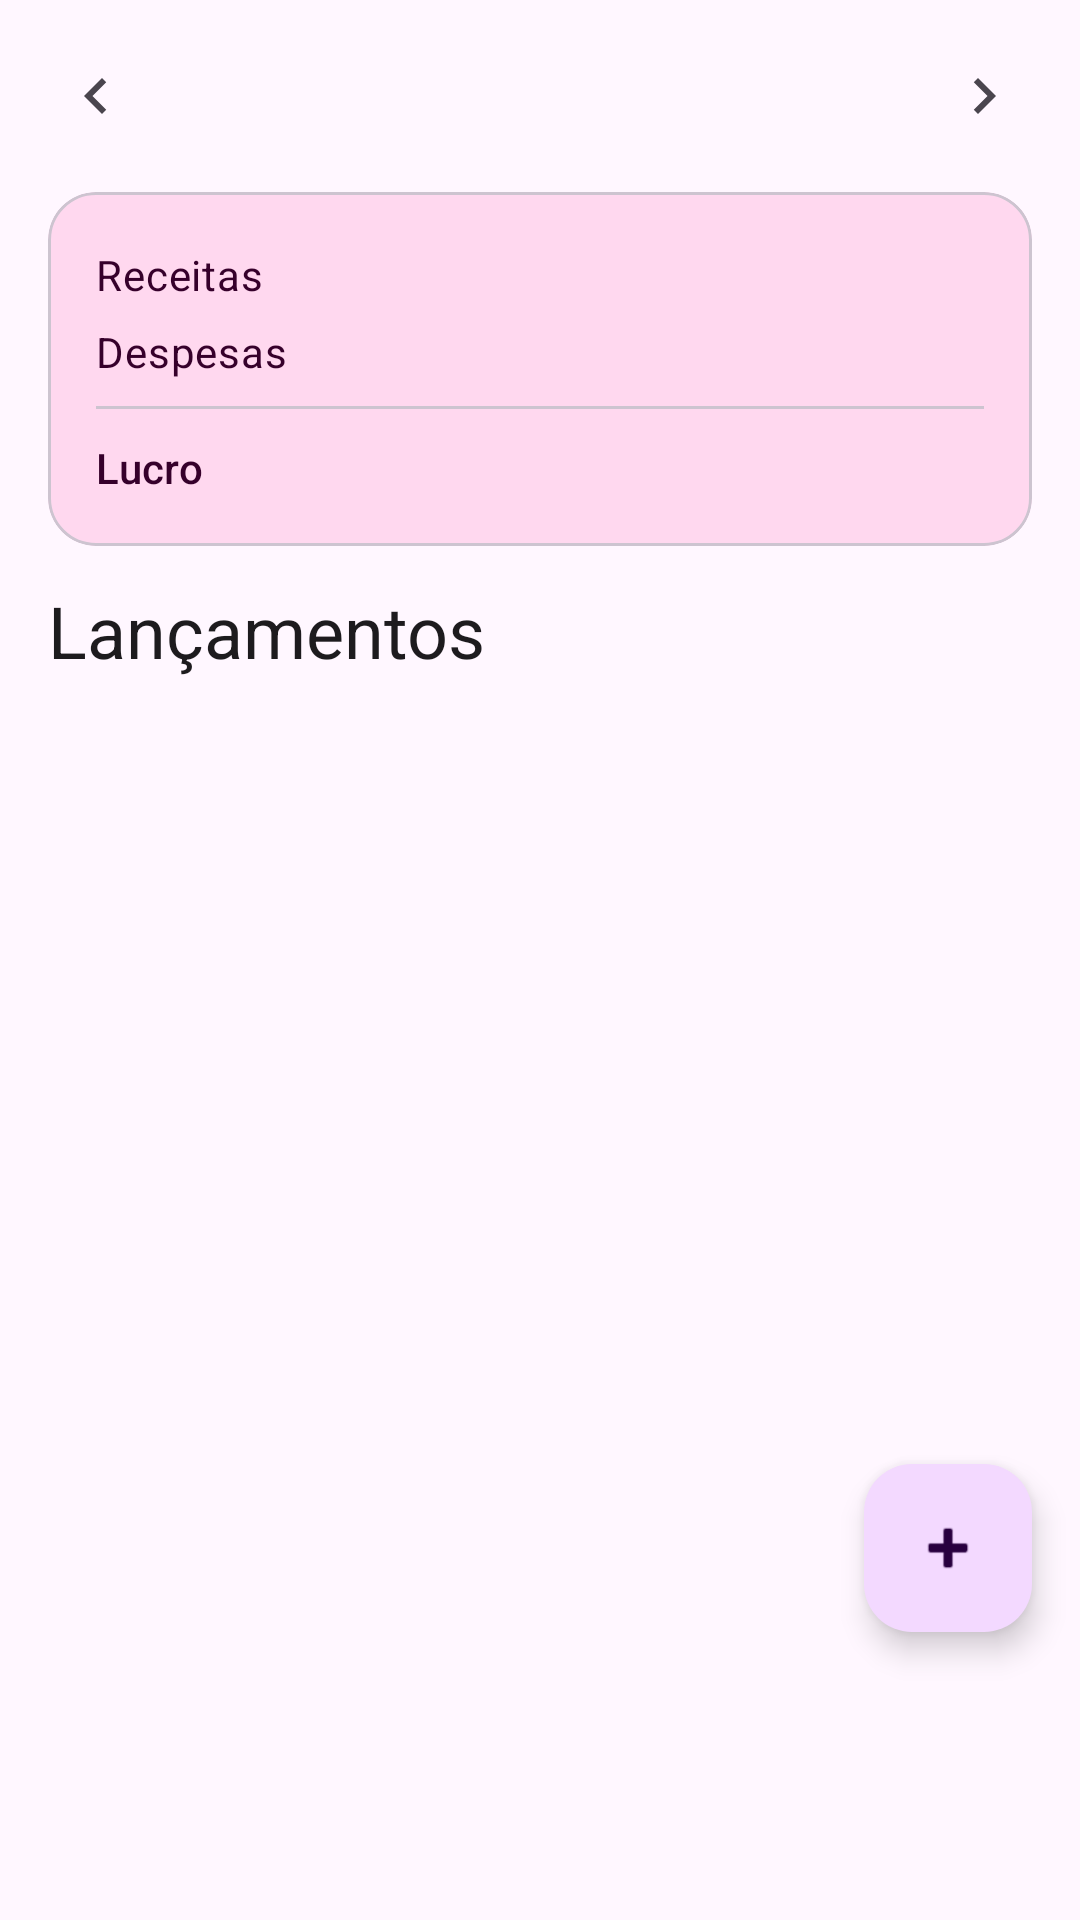

Screen size 1080 × 1920. Icon name, then its box in pixels as (x1, y1, x2, y2):
Adicionar transação: (864, 1464, 1032, 1632)
Mês anterior: (84, 78, 106, 114)
Próximo mês: (974, 78, 996, 114)
